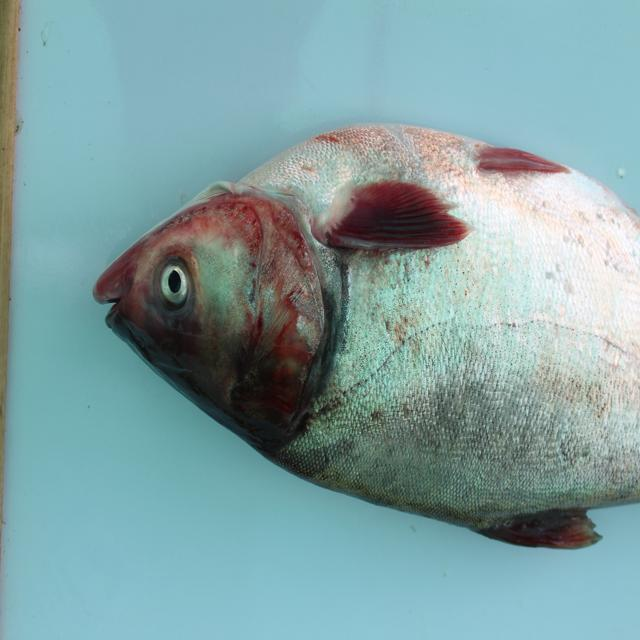SilverCarp: (87, 114, 640, 568)
